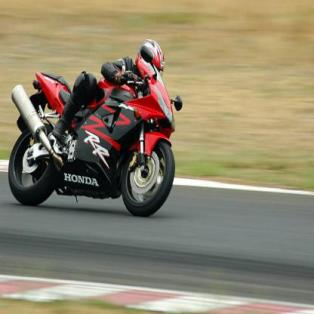Motocicleta: (7, 67, 178, 212)
